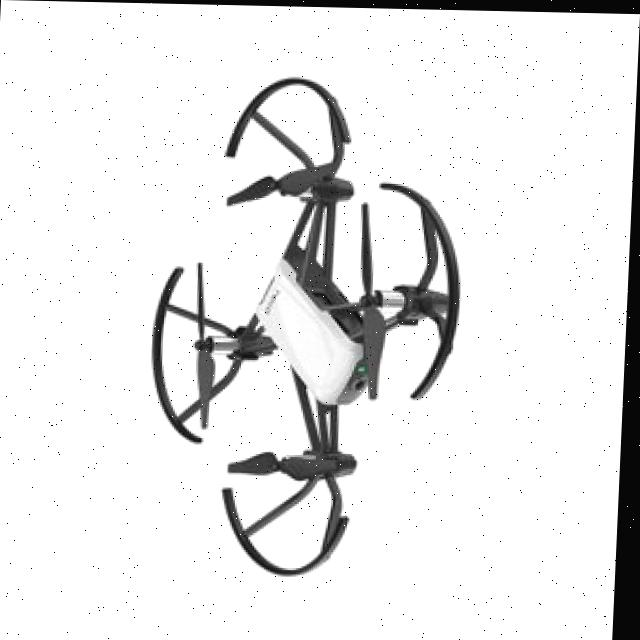drone: (145, 53, 470, 578)
